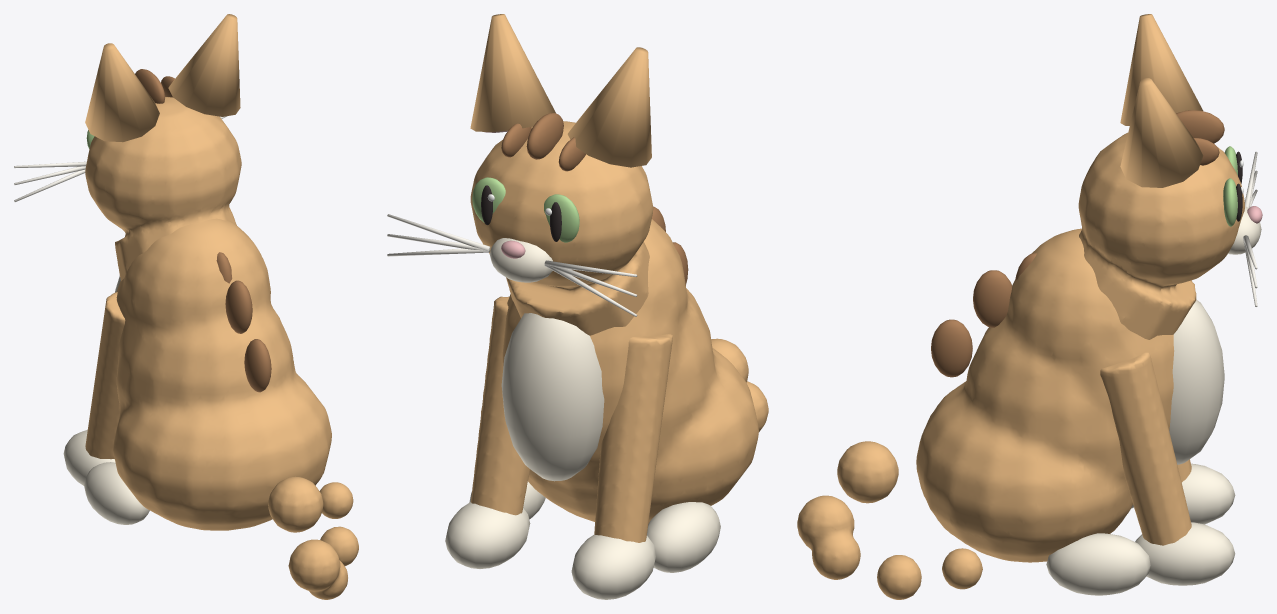
File: Cat.fbx
The picture shows the model from 3 angles, left to right: view 1: azimuth 30°, elevation 25°; view 2: azimuth 150°, elevation 25°; view 3: azimuth 270°, elevation 25°; orthographic projection. The views are drawn at different scales.
Parts seen in each view (by area): view 1: Cat_Body, Cat_Head, Cat_Tail, Cat_Ear_L, Cat_Ear_R, Cat_LegFront_L, Cat_HindFoot_L, Cat_Paw_L, Cat_BackStripe_1, Cat_BackStripe_2, Cat_BrowStripe_mid; view 2: Cat_Body, Cat_Head, Cat_Chest, Cat_LegFront_L, Cat_Ear_L, Cat_LegFront_R, Cat_Ear_R, Cat_Paw_L, Cat_Paw_R, Cat_HindFoot_L, Cat_Muzzle, Cat_Tail (+7 smaller); view 3: Cat_Body, Cat_Head, Cat_Tail, Cat_LegFront_R, Cat_Chest, Cat_Ear_R, Cat_HindFoot_R, Cat_Paw_R, Cat_Ear_L, Cat_Paw_L, Cat_BackStripe_2, Cat_BackStripe_1 (+2 smaller).
Part boxes in pixels (bbox=[...]): Cat_Body: bbox=[112, 218, 331, 530]; Cat_Head: bbox=[85, 97, 241, 280]; Cat_Tail: bbox=[268, 476, 358, 599]; Cat_Ear_L: bbox=[85, 43, 159, 142]; Cat_Ear_R: bbox=[168, 14, 240, 116]; Cat_LegFront_L: bbox=[85, 292, 125, 459]; Cat_HindFoot_L: bbox=[84, 462, 149, 524]; Cat_Paw_L: bbox=[63, 430, 115, 485]; Cat_BackStripe_1: bbox=[225, 280, 252, 333]; Cat_BackStripe_2: bbox=[244, 339, 271, 392]; Cat_BrowStripe_mid: bbox=[135, 69, 164, 103]; Cat_Body: bbox=[502, 219, 758, 523]; Cat_Head: bbox=[470, 121, 653, 335]; Cat_Chest: bbox=[501, 313, 604, 481]; Cat_LegFront_L: bbox=[594, 333, 672, 542]; Cat_Ear_L: bbox=[567, 47, 651, 167]; Cat_LegFront_R: bbox=[471, 296, 529, 515]; Cat_Ear_R: bbox=[470, 14, 555, 132]; Cat_Paw_L: bbox=[571, 534, 655, 599]; Cat_Paw_R: bbox=[445, 502, 530, 568]; Cat_HindFoot_L: bbox=[647, 502, 720, 572]; Cat_Muzzle: bbox=[489, 238, 552, 282]; Cat_Tail: bbox=[711, 338, 768, 431]; Cat_Body: bbox=[916, 228, 1174, 562]; Cat_Head: bbox=[1078, 132, 1244, 339]; Cat_Tail: bbox=[797, 441, 982, 599]; Cat_LegFront_R: bbox=[1100, 352, 1191, 545]; Cat_Chest: bbox=[1169, 299, 1224, 464]; Cat_Ear_R: bbox=[1120, 78, 1203, 187]; Cat_HindFoot_R: bbox=[1046, 533, 1150, 595]; Cat_Paw_R: bbox=[1135, 522, 1235, 585]; Cat_Ear_L: bbox=[1120, 14, 1203, 125]; Cat_Paw_L: bbox=[1182, 463, 1235, 524]; Cat_BackStripe_2: bbox=[931, 319, 972, 377]; Cat_BackStripe_1: bbox=[973, 270, 1012, 327].
Size of the model in its own units: 0.2606 by 0.5482 by 0.4432.
